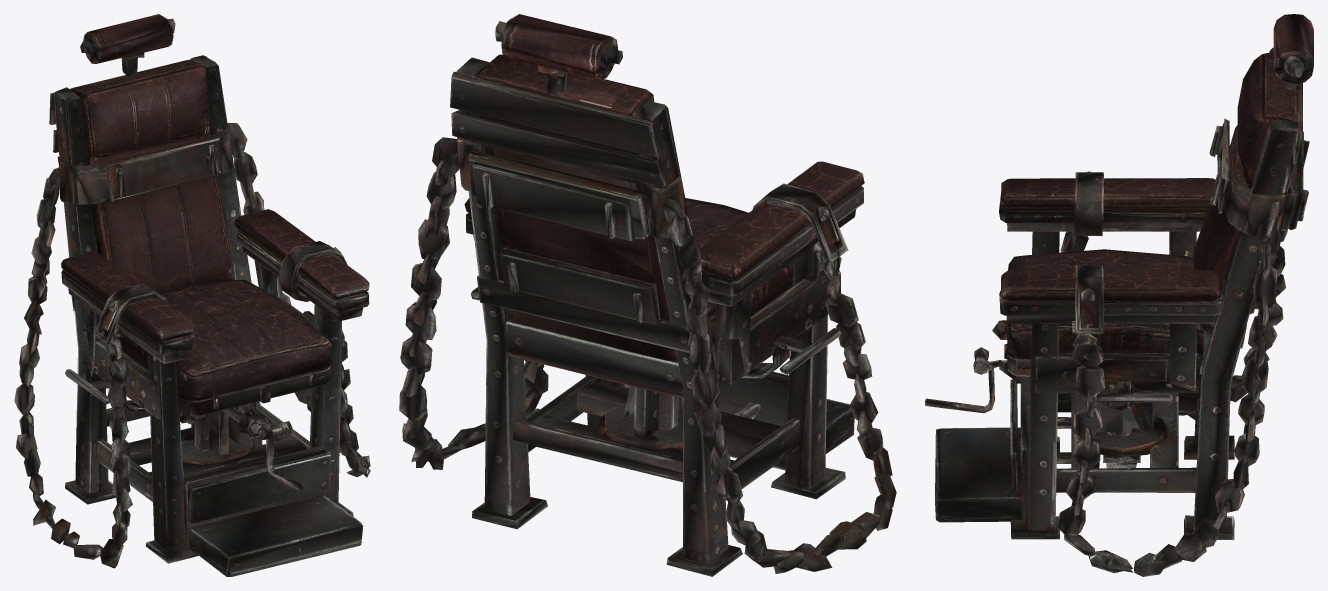
The model's file is restraint_chair.fbx.
The picture shows the model from 3 angles, left to right: view 1: azimuth 30°, elevation 25°; view 2: azimuth 150°, elevation 25°; view 3: azimuth 270°, elevation 25°; orthographic projection. The views are drawn at different scales.
Visible parts, largest first — view 1: restraint_chair; view 2: restraint_chair; view 3: restraint_chair.
Part boxes in pixels (x1,y1,x2,y2): restraint_chair: [14, 14, 370, 576]; restraint_chair: [399, 14, 896, 576]; restraint_chair: [925, 14, 1313, 576].
Bounding box in the file's own units: 843 × 1066 × 822.
Materials: 1 (1 with a texture image).
